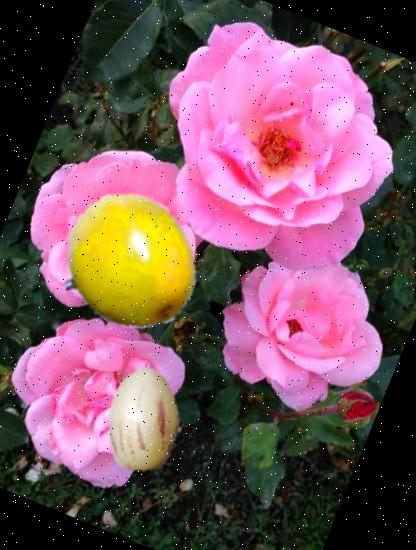Maracuja: (34, 171, 219, 356)
Pepino: (72, 348, 214, 489)
